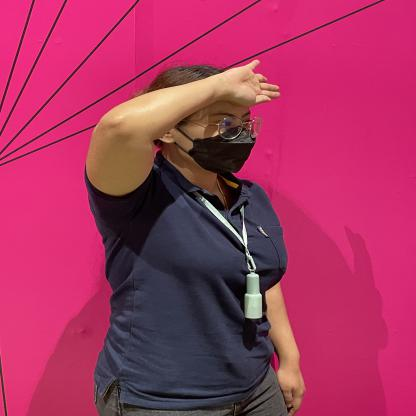Sick: (146, 43, 320, 121)
